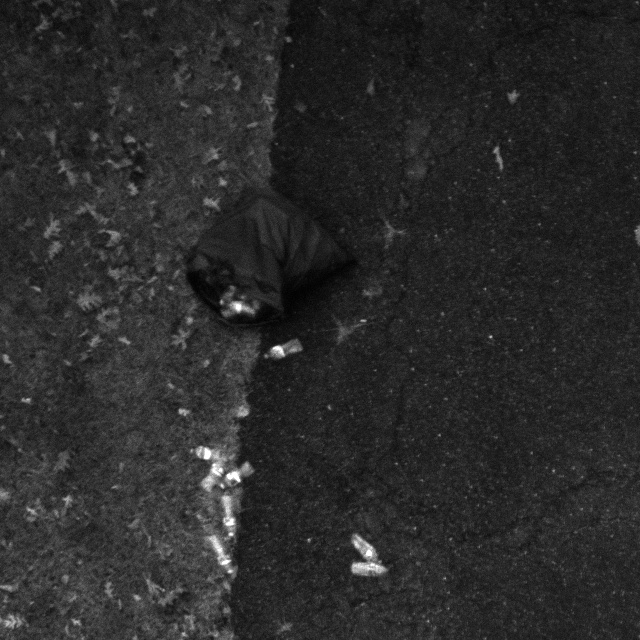bottle: (252, 333, 314, 366), (199, 530, 239, 578), (341, 533, 387, 563), (211, 491, 239, 540), (179, 439, 225, 467), (344, 556, 394, 581), (217, 465, 257, 490), (201, 458, 223, 499)
